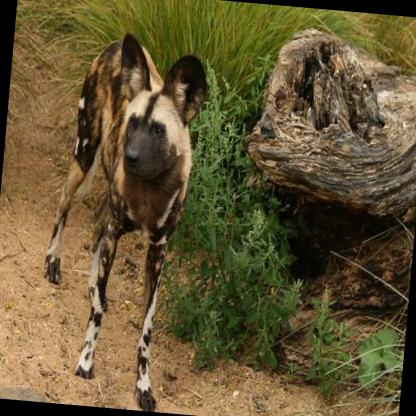African_hunting_dog: (31, 25, 208, 412)
